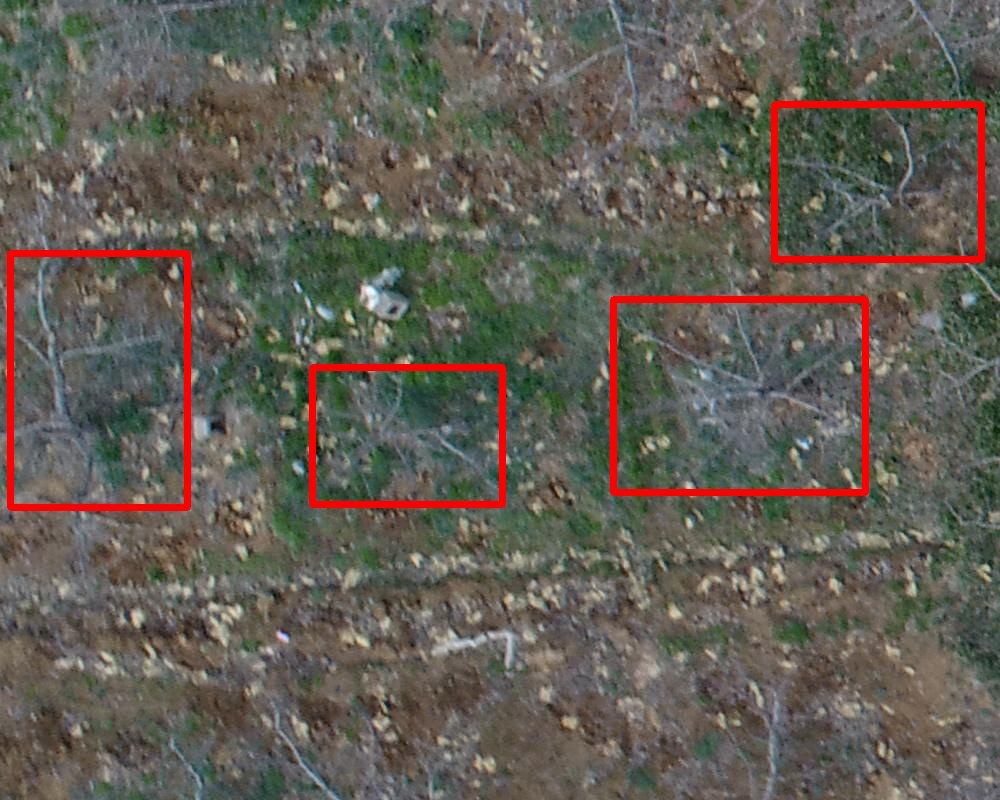apple: (613, 299, 865, 492), (10, 253, 187, 507), (774, 104, 981, 259), (312, 367, 502, 504)
